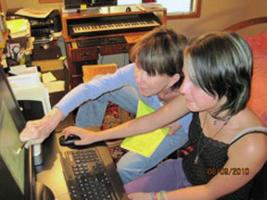person: (64, 31, 267, 200)
